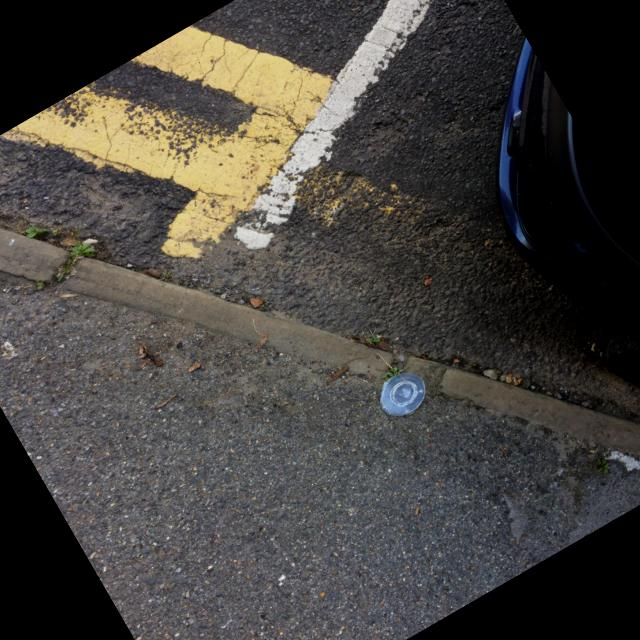Lid: (381, 373, 426, 416)
